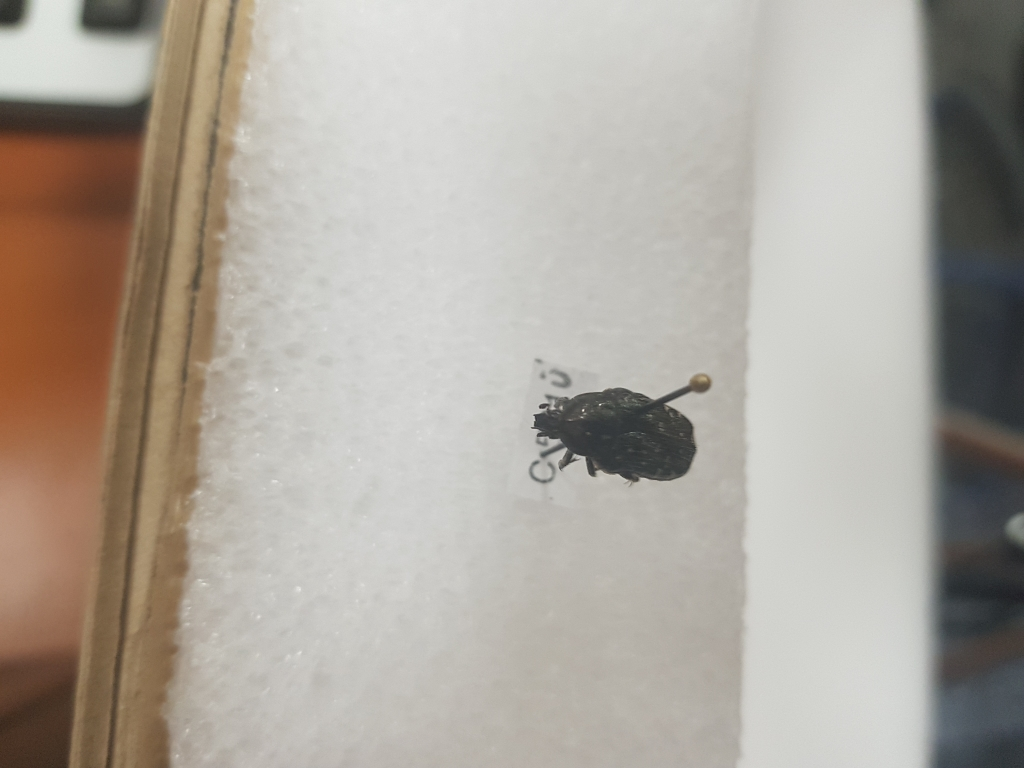Oxythyrea_albopicta: (521, 388, 700, 488)
